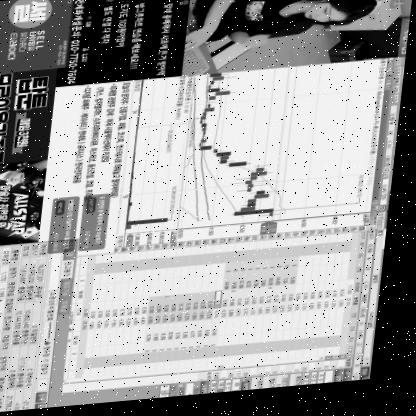streamer: (186, 0, 382, 57)
